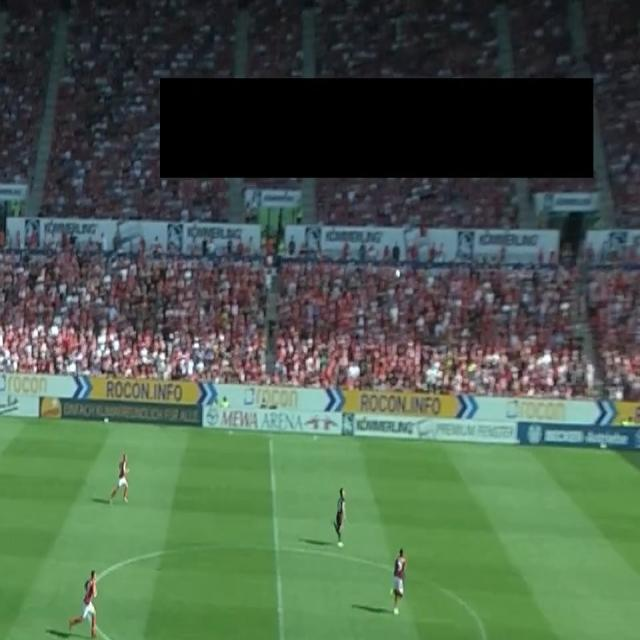ball: (394, 268, 401, 279)
